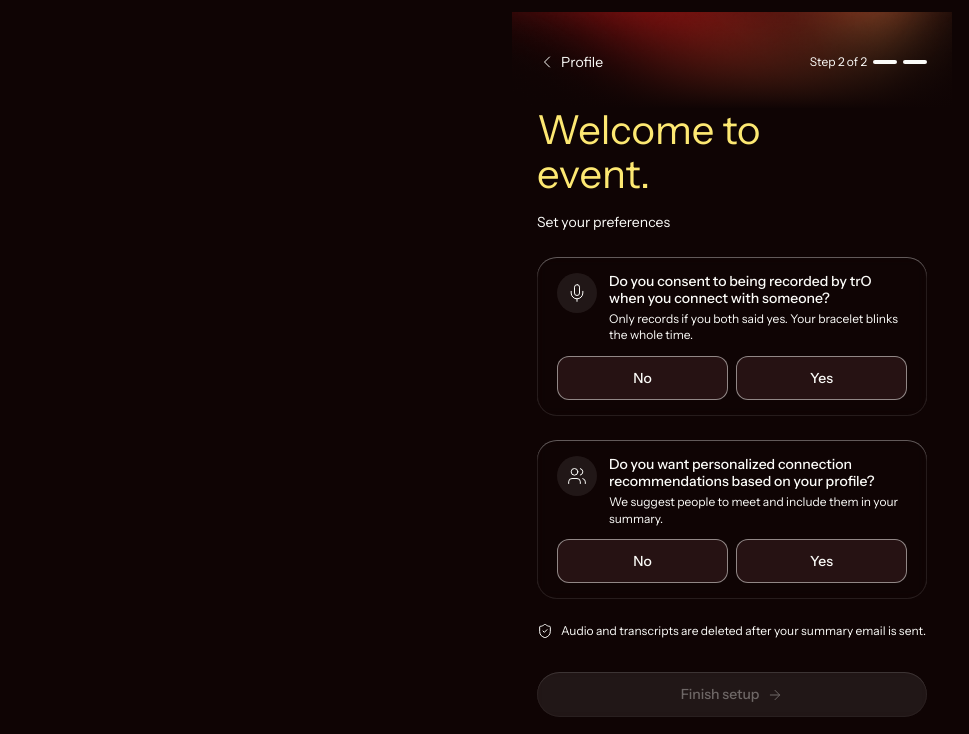
Test: bracelet already taken › still finishes setup and forgets the bracelet
Click the 1st radio button labelled "No". click: click(642, 378)
box: [557,356,728,400]
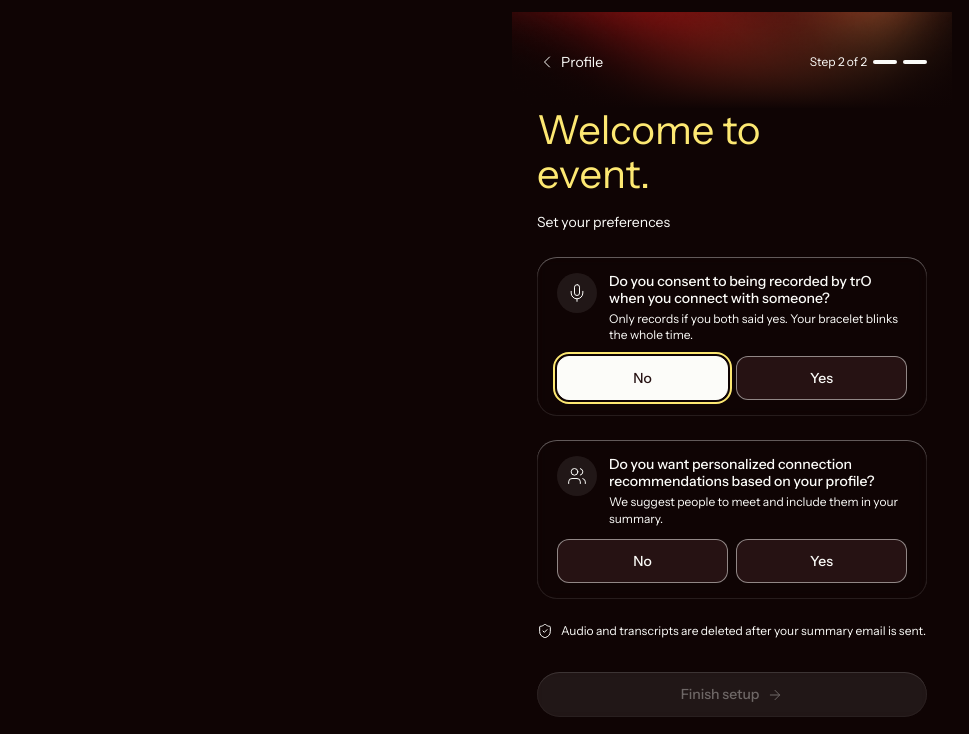
Click the 2nd radio button labelled "No". click: click(642, 561)
box: [557,539,728,583]
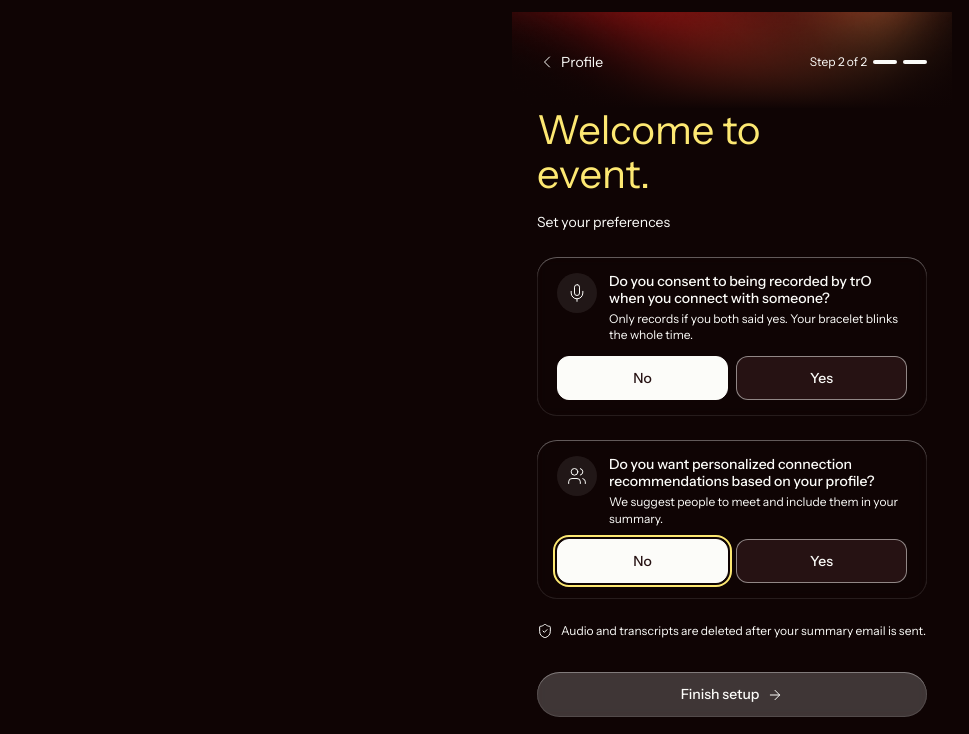
Click the button "Finish setup". click: click(732, 695)
box: [537,672,927,717]
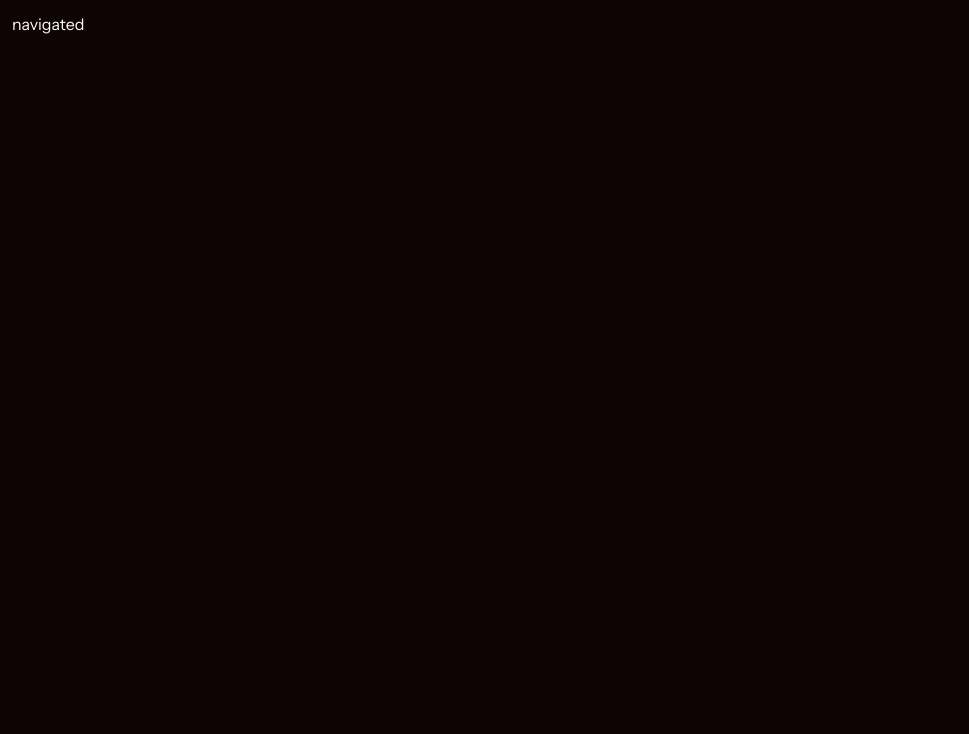
Expected: the text "navigated" is shown, [12,14,84,34]
